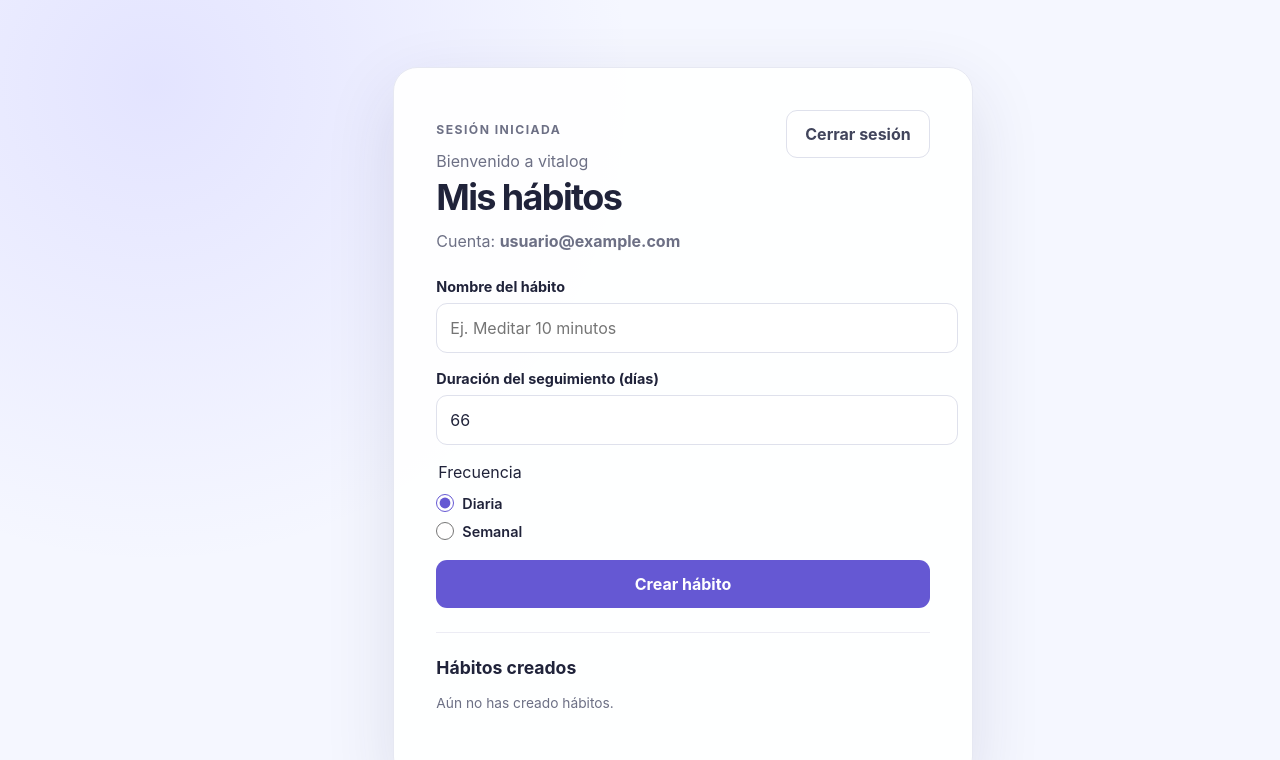
Test: rejects a weekly habit until at least one day is selected
Type "Correr" into the field labelled "Nombre del hábito" at (697, 328), box x1=436 y1=303 x2=958 y2=353
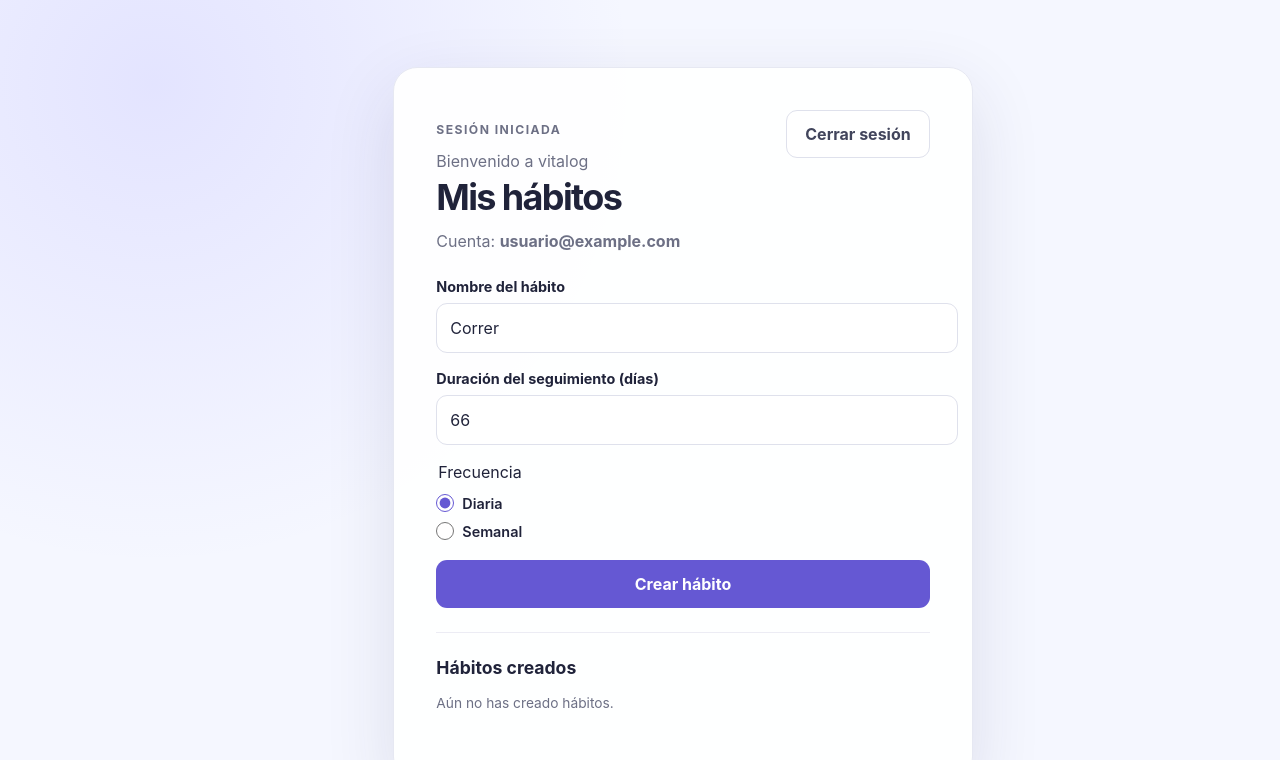
Click the radio button labelled "Semanal" at (445, 531), box x1=436 y1=522 x2=454 y2=540
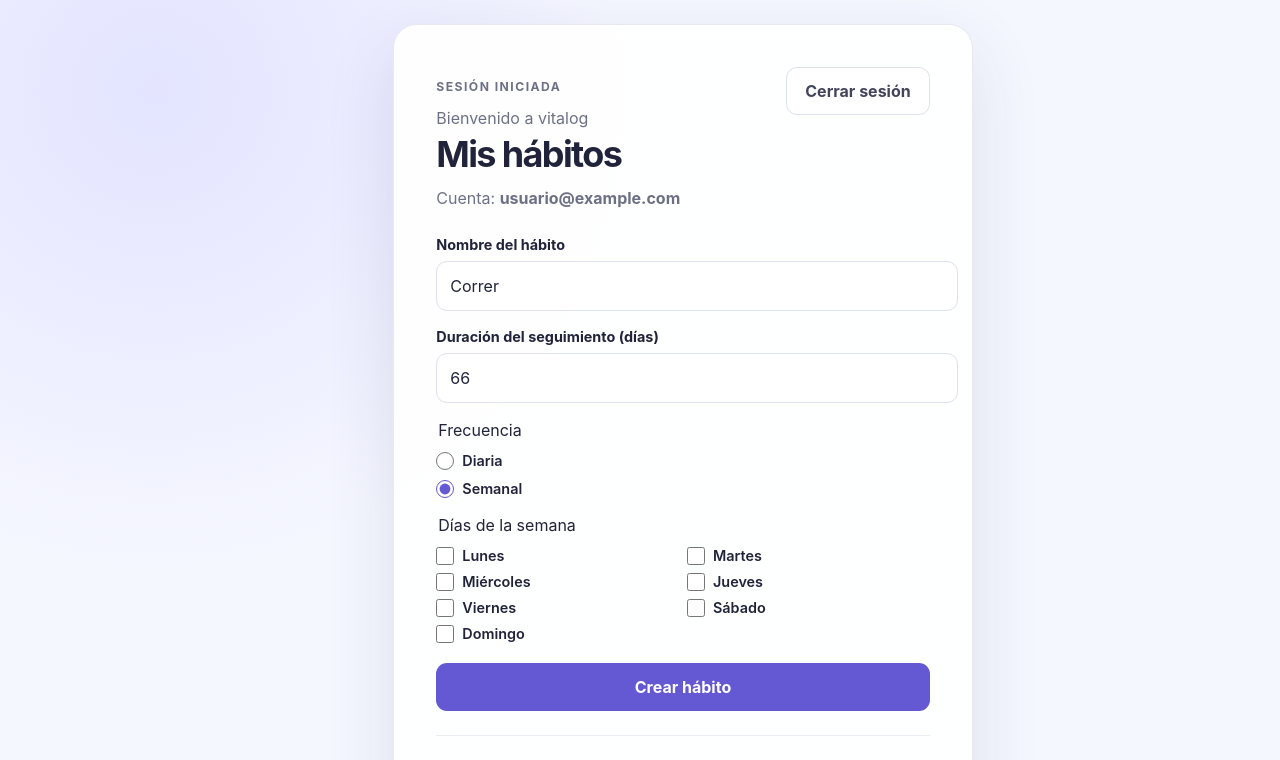
Click the button "Crear hábito" at (683, 687), box x1=436 y1=663 x2=930 y2=711
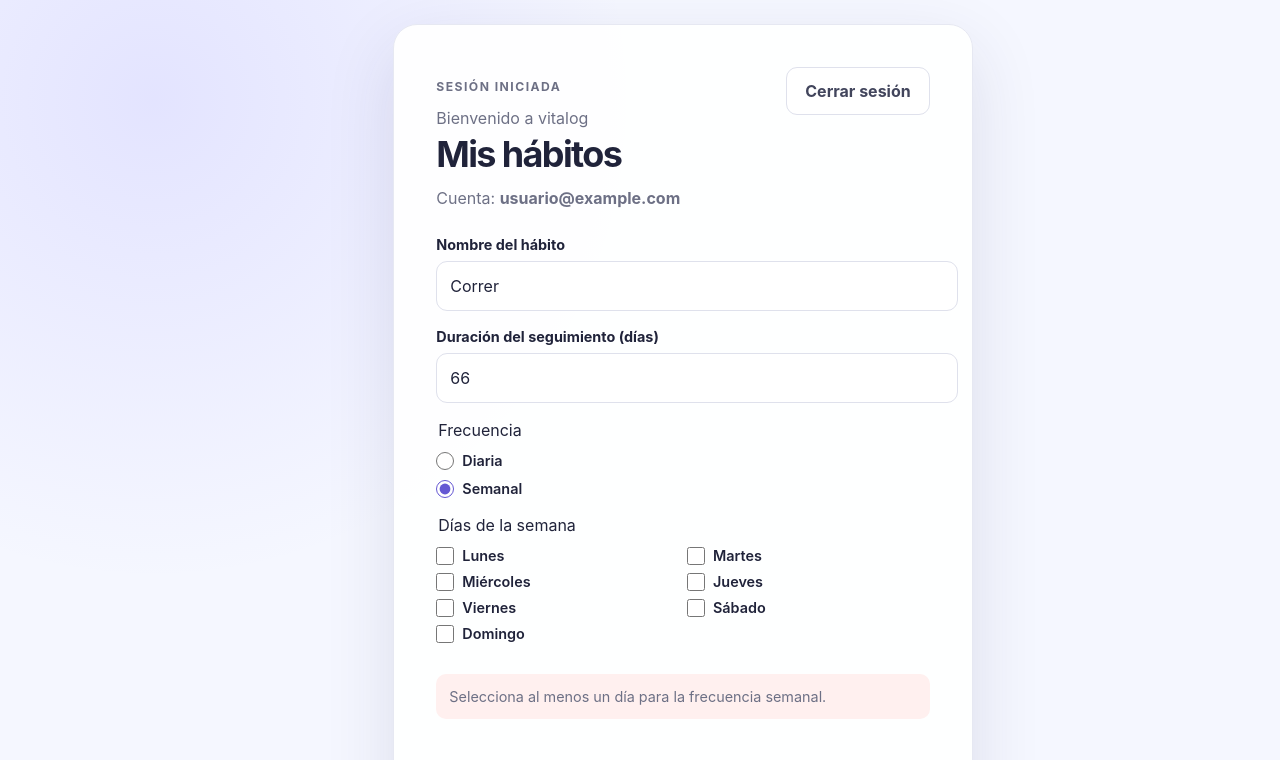
Expected: the message shows "Selecciona al menos un día", x1=449 y1=688 x2=826 y2=705
